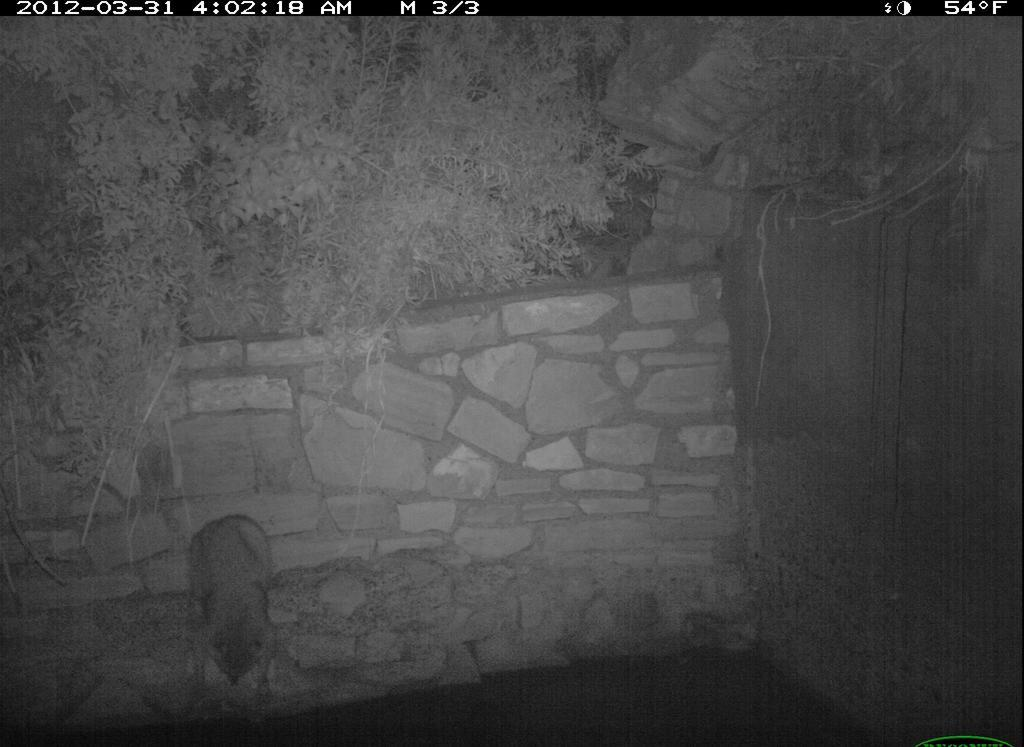raccoon: (175, 504, 292, 689)
